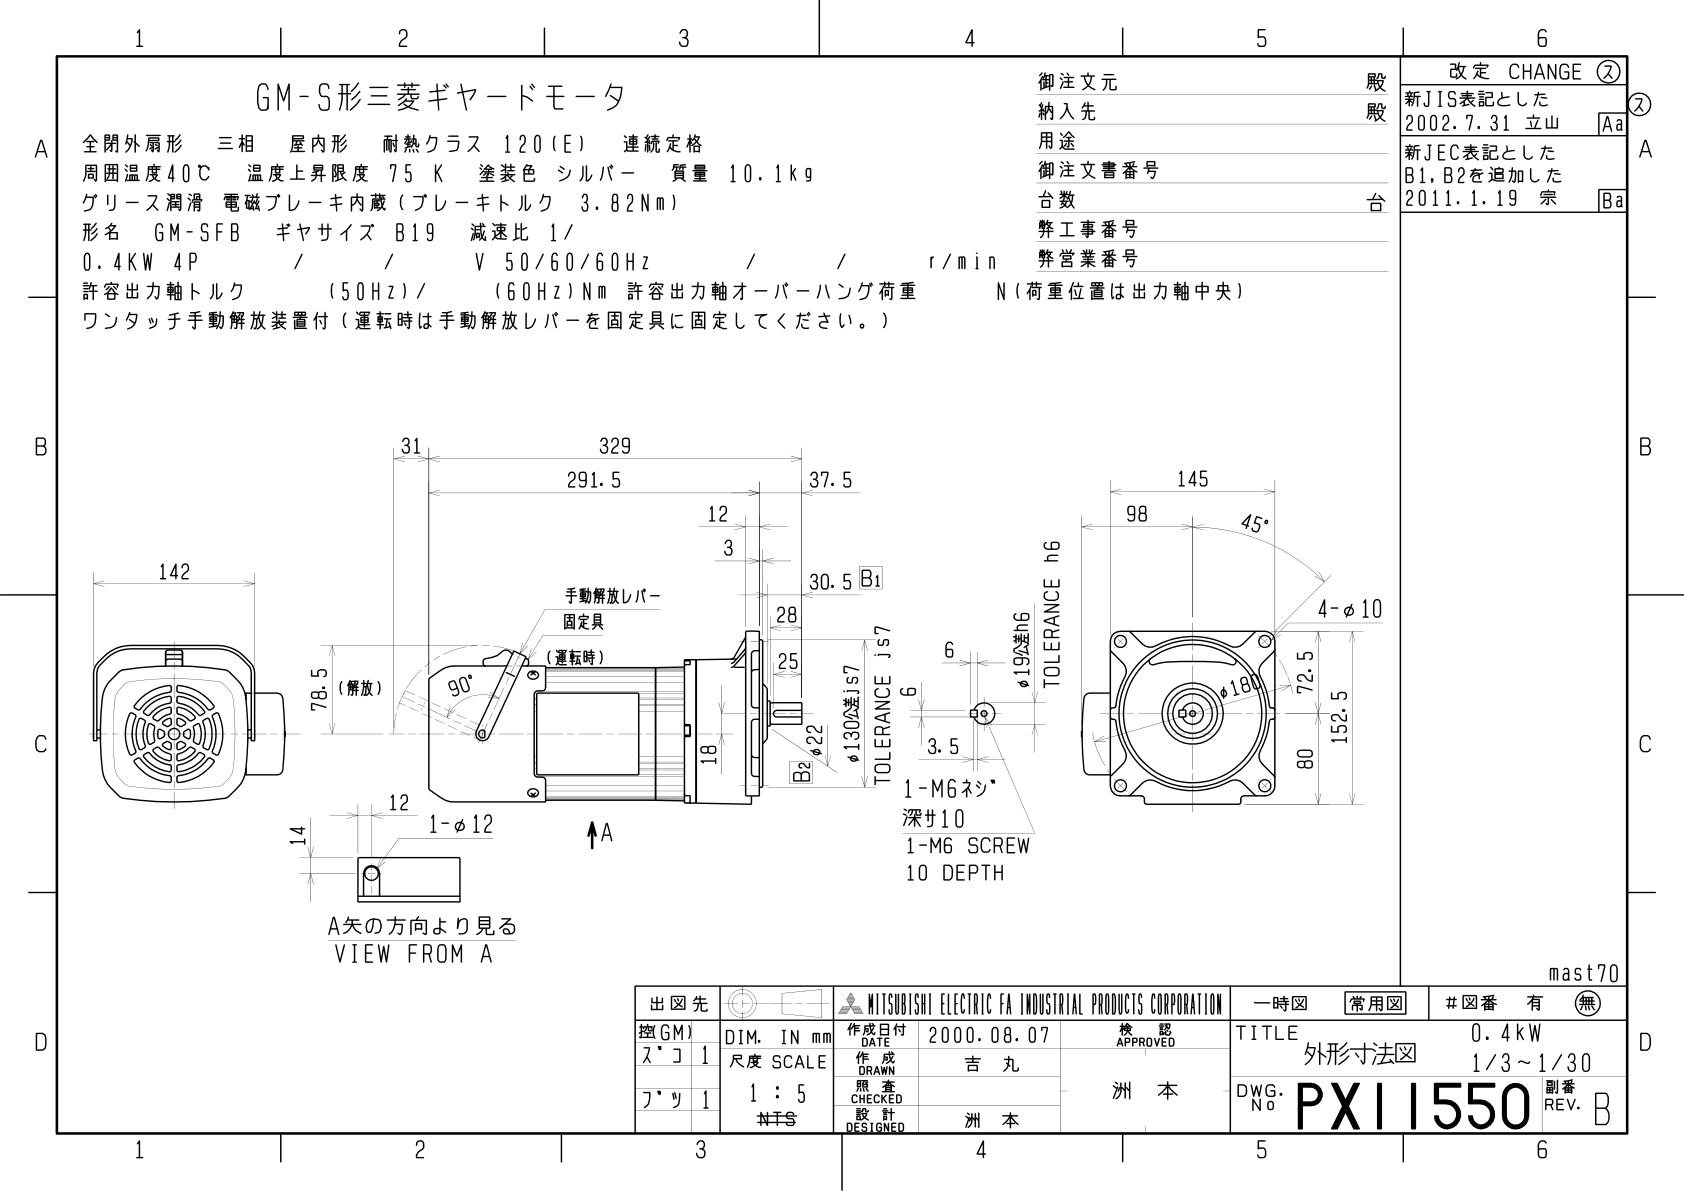GM_S_手動ブレーキ＿三相_フランジ: (77, 406, 1392, 969)
